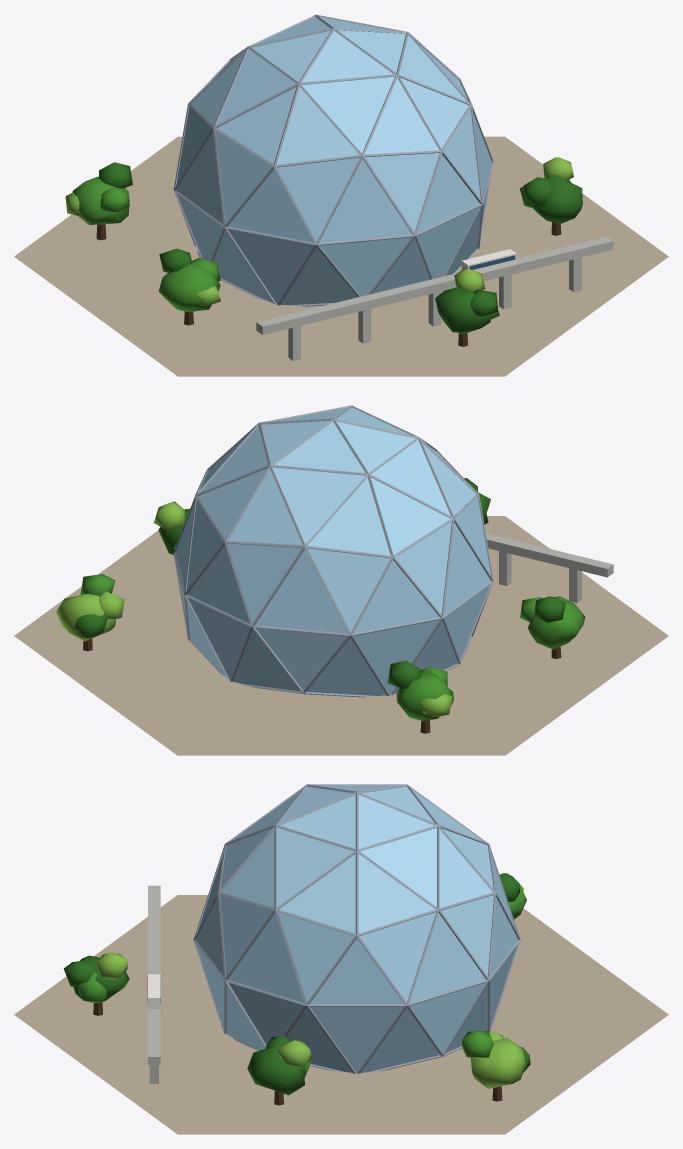
Rendered from wonder_biosphere.fbx.
3 views of the same model, one above another, from view 1: azimuth 30°, elevation 25°; view 2: azimuth 150°, elevation 25°; view 3: azimuth 270°, elevation 25° (orthographic).
Parts seen in each view (by area): view 1: wonder_biosphere; view 2: wonder_biosphere; view 3: wonder_biosphere.
Boxes of the visible parts, bbox=[...] form: wonder_biosphere: bbox=[14, 14, 668, 376]; wonder_biosphere: bbox=[14, 405, 668, 755]; wonder_biosphere: bbox=[14, 784, 668, 1134].
Bounding box in the file's own units: 182 × 80.31 × 210.
